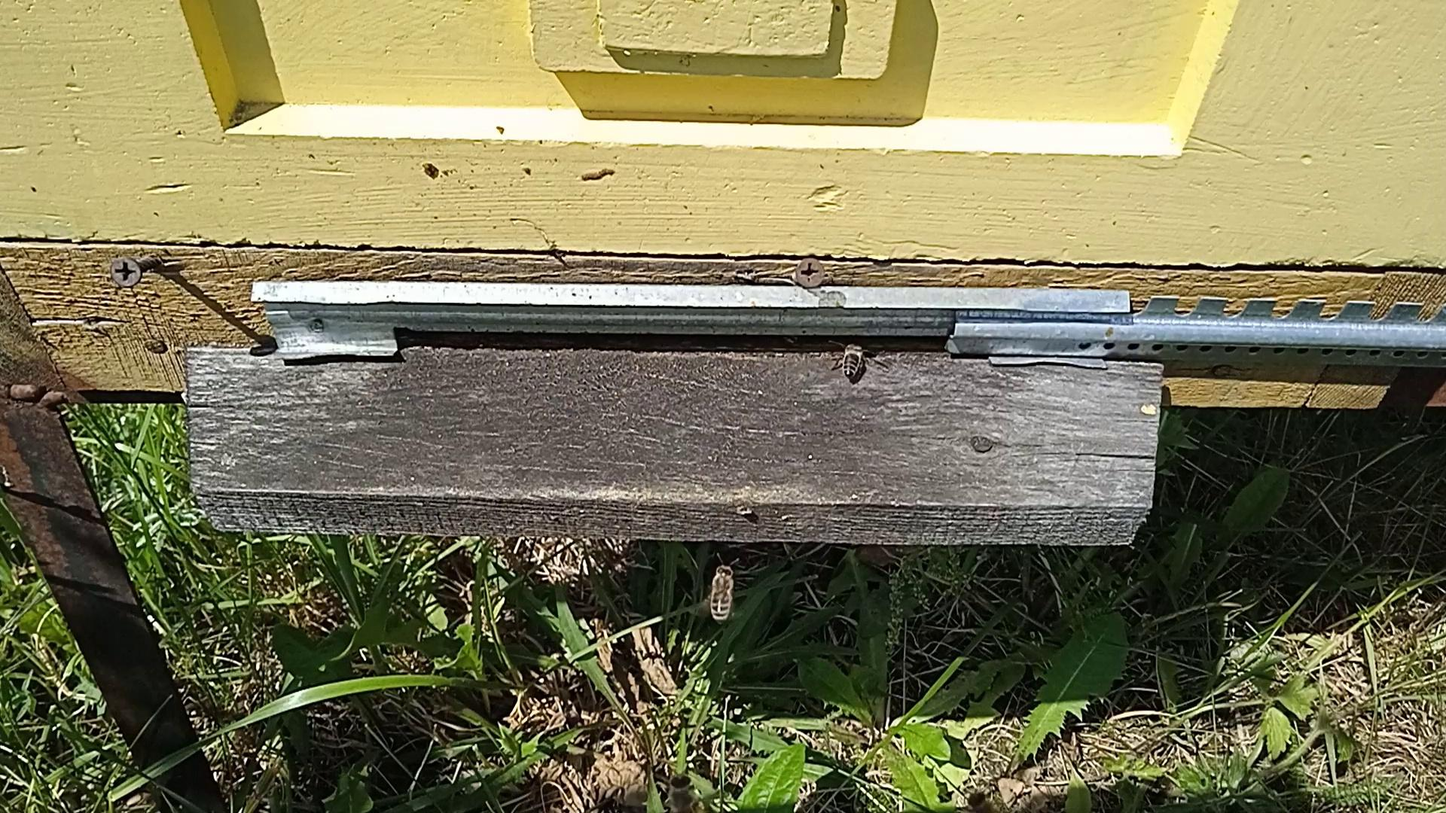worker-bee: (706, 562, 738, 624), (667, 773, 706, 813), (836, 340, 868, 381)
